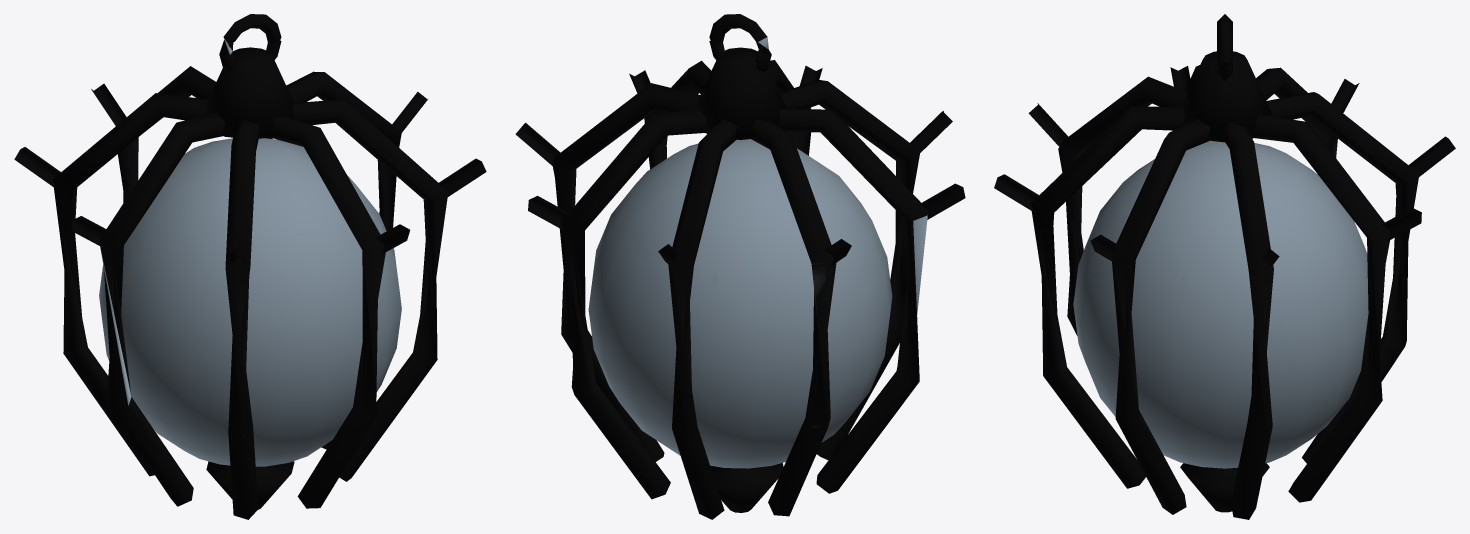
The model's file is archive_lamp.obj.
3 views of the same model, side by side, from view 1: azimuth 30°, elevation 25°; view 2: azimuth 150°, elevation 25°; view 3: azimuth 270°, elevation 25° (orthographic).
Visible parts, largest first — view 1: part0, fire; view 2: part0, fire; view 3: part0, fire.
Boxes of the visible parts, x1,y1,x2,y2 form: part0: (14, 14, 486, 519); fire: (99, 138, 401, 466); part0: (515, 14, 965, 519); fire: (588, 139, 892, 468); part0: (994, 14, 1455, 519); fire: (1073, 141, 1368, 468).
Size of the model in its own units: 0.8225 by 0.964 by 0.8225.
